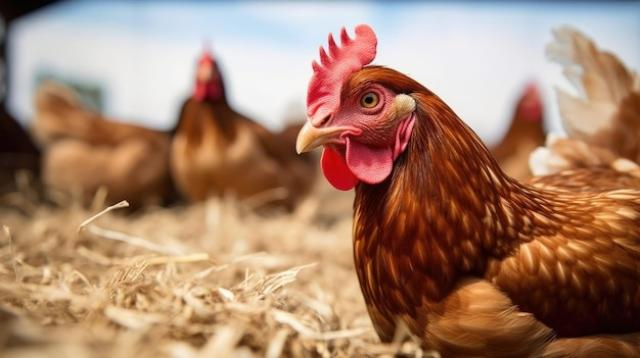Chicken: (294, 22, 640, 358)
